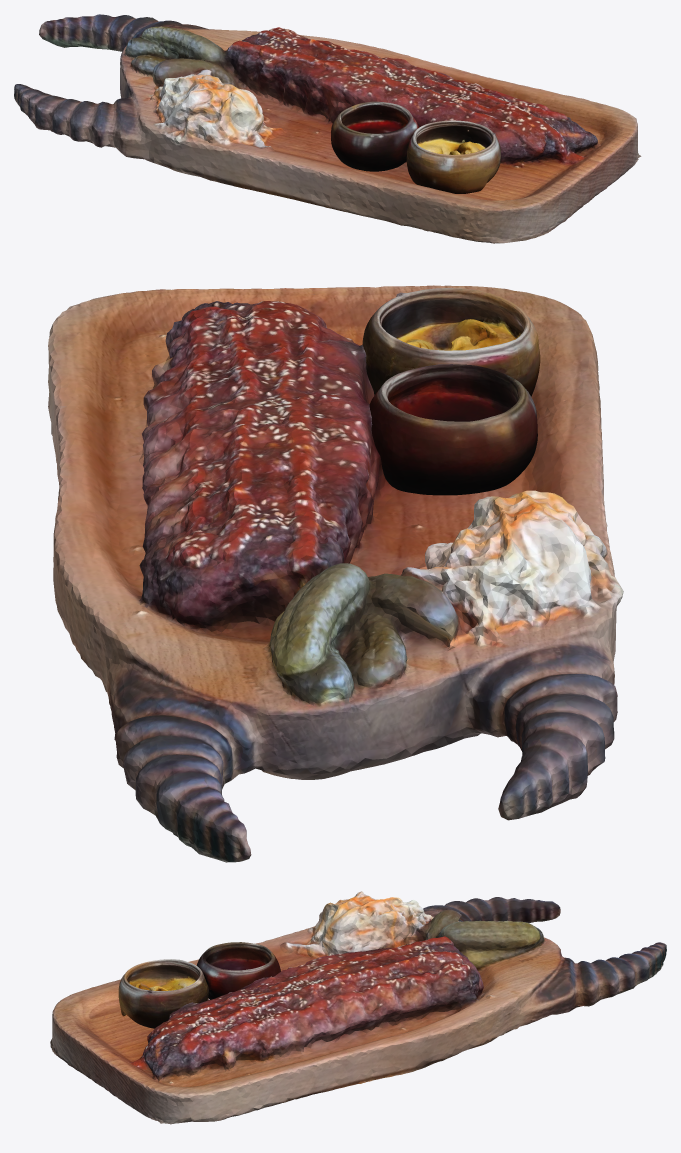
File: Dandeh.behine.glb
The picture shows the model from 3 angles, top to bottom: view 1: azimuth 30°, elevation 25°; view 2: azimuth 150°, elevation 25°; view 3: azimuth 270°, elevation 25°; orthographic projection. The views are drawn at different scales.
Parts seen in each view (by area): view 1: object 1, world; view 2: object 1, world; view 3: object 1, world.
Boxes of the visible parts, x1,y1,x2,y2 form: object 1: (14, 14, 641, 243); world: (331, 101, 500, 193); object 1: (48, 285, 623, 862); world: (362, 288, 540, 495); object 1: (50, 891, 666, 1124); world: (118, 942, 280, 1028).
Bounding box in the file's own units: 0.4366 × 0.0679 × 0.5563.
4 materials, 2 textured.
